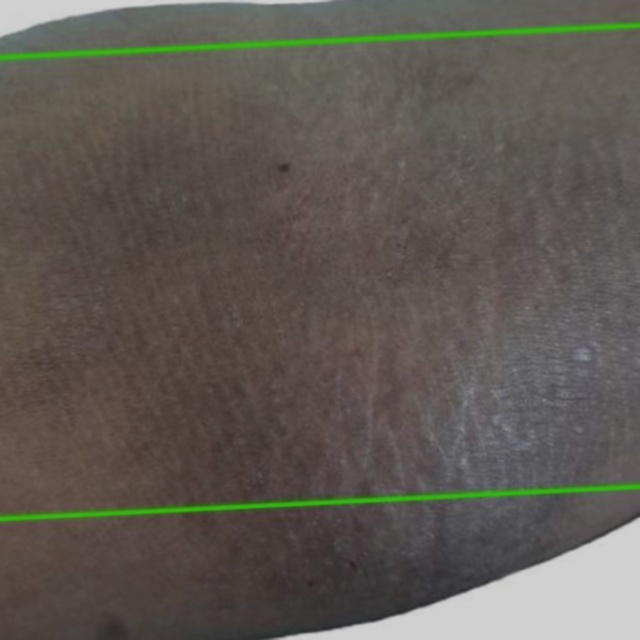Contact Dermatitis: (0, 486, 639, 639)
